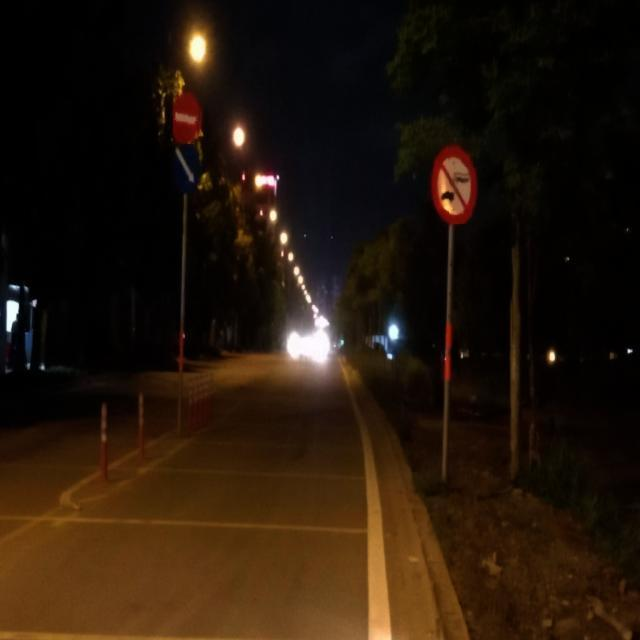102-cam-di-nguoc-chieu: (171, 90, 203, 142)
107-cam-oto-khach-va-oto-tai: (429, 143, 478, 225)
302a-huong-phai-di-vong-chuong-ngai-vat-1: (170, 142, 202, 194)
